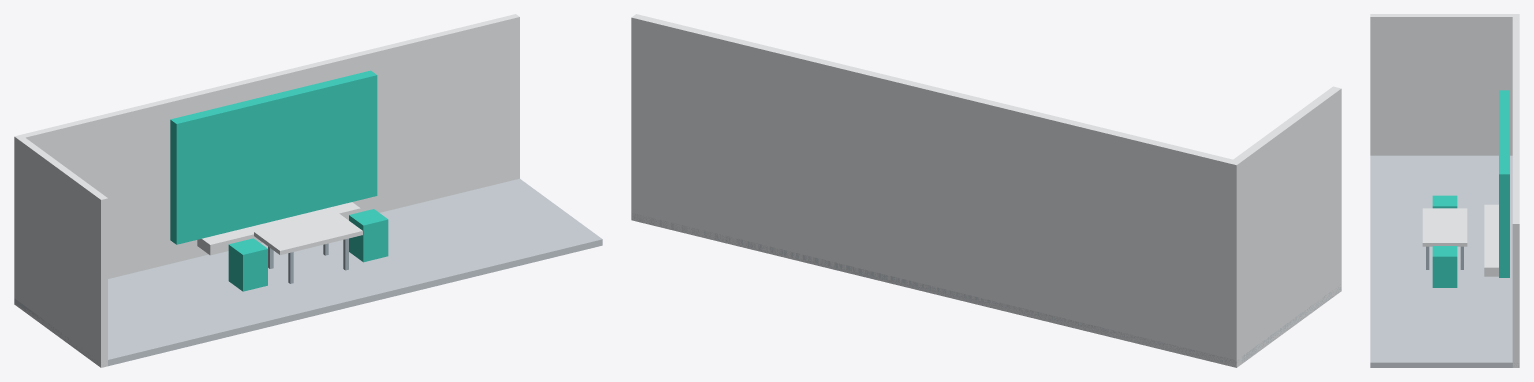
The picture shows the model from 3 angles, left to right: view 1: azimuth 30°, elevation 25°; view 2: azimuth 150°, elevation 25°; view 3: azimuth 270°, elevation 25°; orthographic projection. The views are drawn at different scales.
Visible parts, largest first — view 1: Exhibition Booth Concept; view 2: Exhibition Booth Concept; view 3: Exhibition Booth Concept.
Part boxes in pixels (box(x1,y1,x2,y2)): Exhibition Booth Concept: box(14, 14, 602, 367); Exhibition Booth Concept: box(631, 14, 1341, 367); Exhibition Booth Concept: box(1370, 14, 1519, 367).
Size of the model in its own units: 10 by 3.2 by 3.
